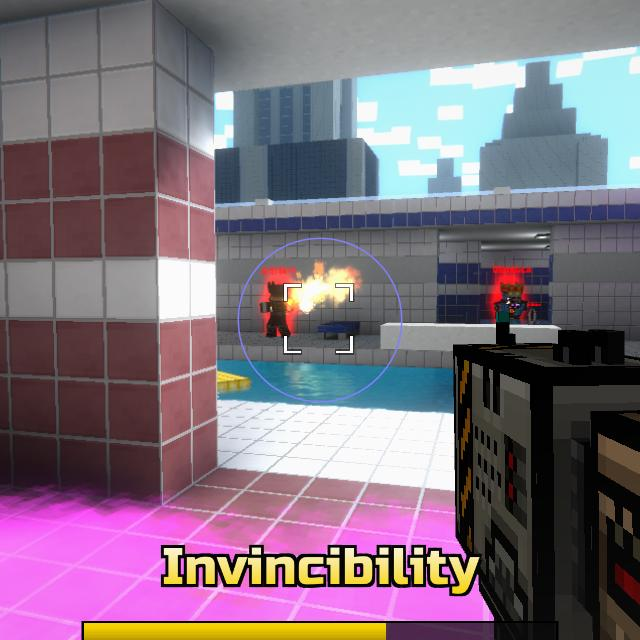Enemy: (259, 284, 291, 338), (495, 285, 529, 324)
